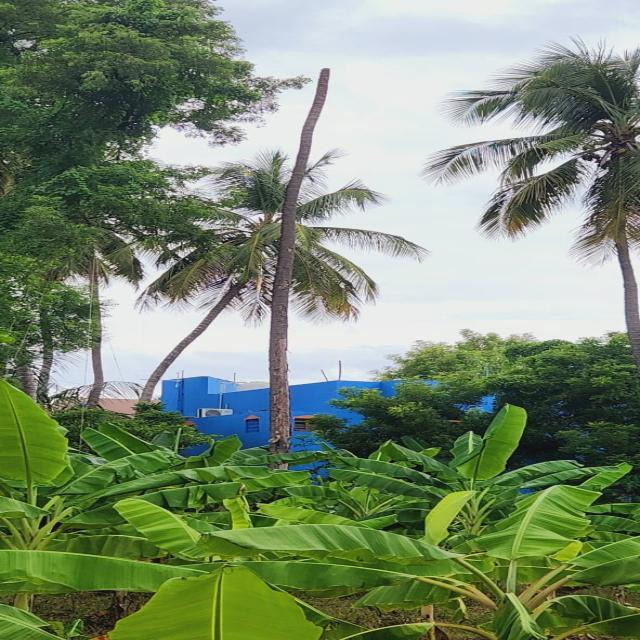Coconut-tree: (441, 60, 640, 374), (168, 89, 307, 433)
